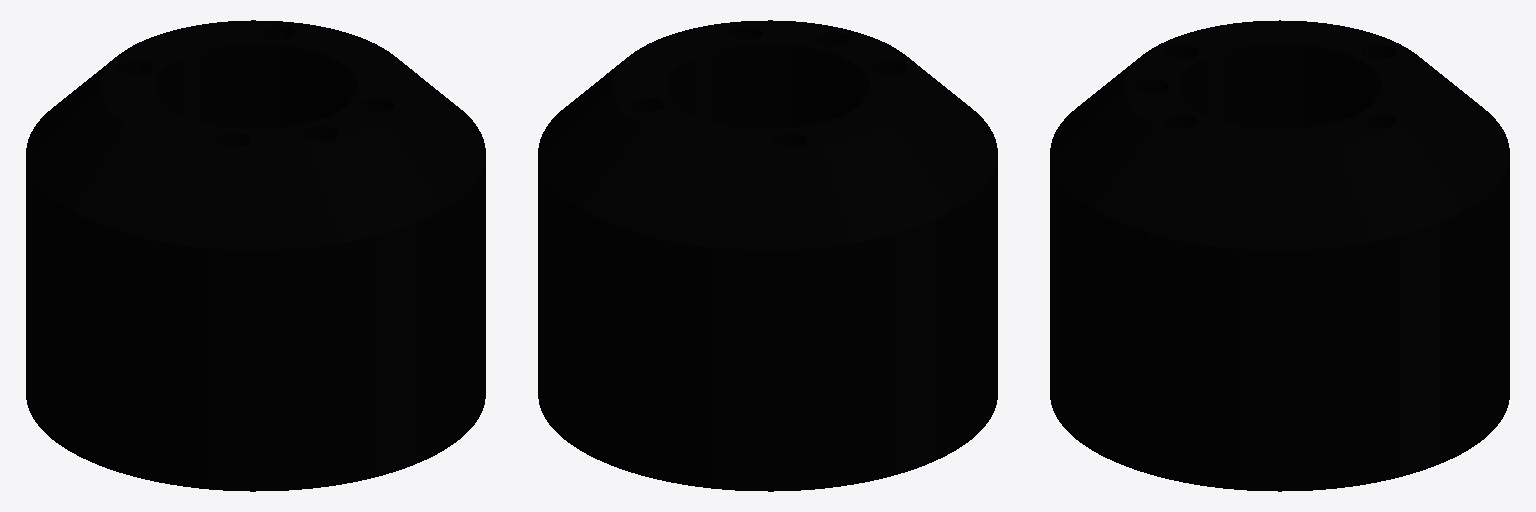
The robot description file, URDF, robot "hand_coupler":
<?xml version="1.0"?>
<!--
  hand_coupler.urdf
  Acoplador da prótese (peça que conecta a mão COVVI ao flange do robô).

  Mesh: meshes/PecasProtese.stl (unidade original: mm)
    X: ±37.545 mm  (⌀ ≈ 75 mm — disco de montagem)
    Y: ±37.545 mm
    Z:   0 … 55.46 mm  (altura do acoplador)

  Convenção de frames:
    • hand_coupler_link / origem: coincide com o flange do robô (Link6).
      O fundo do mesh (Z = 0) assenta na face do flange; o acoplador
      estende-se +55.46 mm ao longo de +Link6_z (eixo axial do pulso).
    • A mão COVVI monta no TOPO do acoplador (Z = +0.05546 m), substituindo
      o antigo acoplamento flush Link6→hand_base_link.

  Cadeia real (integração CR10 + COVVI):
    Link6 → hand_coupler_link (acoplador ⌀75×55.46 mm) → hand_base_link (COVVI)

  Uso standalone (Gazebo):
    spawn via spawn_entity.py; o bloco world/Link6 abaixo serve só de
    harness de teste e é substituído por Link6 do CR10 na integração.

  Integração nos launches (cr10_covvi_gazebo / conveyor_cell):
    O link e os joints são injetados programaticamente, com o caminho do
    mesh reescrito para file:// (Gazebo Classic não resolve package://
    ao spawnar a partir de arquivo).
-->
<robot name="hand_coupler">

  <!-- ══════════════════════════════════════════════════════════════════
       ROOT (modo standalone): liga o acoplador ao world para teste.
       Na integração com o CR10 este bloco é substituído por Link6.
  ══════════════════════════════════════════════════════════════════ -->
  <link name="world"/>

  <joint name="world_to_link6" type="fixed">
    <parent link="world"/>
    <child link="Link6"/>
    <origin xyz="0 0 0" rpy="0 0 0"/>
  </joint>

  <link name="Link6">
    <inertial>
      <mass value="0.001"/>
      <inertia ixx="1e-9" ixy="0.0" ixz="0.0"
               iyy="1e-9" iyz="0.0" izz="1e-9"/>
    </inertial>
  </link>

  <!-- ══════════════════════════════════════════════════════════════════
       ACOPLADOR DA PRÓTESE (entre Link6 e a mão COVVI)
       Disco ⌀75×55.46 mm; mesh já centrado em X/Y, Z de 0 a 55.46 mm.
  ══════════════════════════════════════════════════════════════════ -->
  <link name="hand_coupler_link">
    <inertial>
      <origin xyz="0 0 0.02773" rpy="0 0 0"/>
      <mass value="0.150"/>
      <!-- cilindro R=0.0375 H=0.05546: Ixx=Iyy=(1/12)m(3R²+H²); Izz=(1/2)mR² -->
      <inertia ixx="9.12e-5" ixy="0.0" ixz="0.0"
               iyy="9.12e-5" iyz="0.0"
               izz="1.055e-4"/>
    </inertial>
    <visual>
      <origin xyz="0 0 0" rpy="0 0 0"/>
      <geometry>
        <mesh filename="package://touch_pack/meshes/PecasProtese.stl"
              scale="0.001 0.001 0.001"/>
      </geometry>
      <material name="coupler_black">
        <color rgba="0.03 0.03 0.03 1.0"/>
      </material>
    </visual>
    <collision name="col_hand_coupler">
      <origin xyz="0 0 0.02773" rpy="0 0 0"/>
      <geometry>
        <cylinder radius="0.0375" length="0.05546"/>
      </geometry>
    </collision>
  </link>

  <!-- Acoplador no flange (fundo do mesh assenta em Link6). -->
  <joint name="coupler_attach" type="fixed">
    <parent link="Link6"/>
    <child link="hand_coupler_link"/>
    <origin xyz="0 0 0" rpy="0 0 0"/>
  </joint>

  <!-- ══════════════════════════════════════════════════════════════════
       PROPRIEDADES GAZEBO
  ══════════════════════════════════════════════════════════════════ -->
  <gazebo reference="Link6">
    <self_collide>false</self_collide>
  </gazebo>

  <gazebo reference="hand_coupler_link">
    <self_collide>false</self_collide>
    <gravity>true</gravity>
    <mu1>0.40</mu1>
    <mu2>0.40</mu2>
    <kp>1.0e5</kp>
    <kd>100.0</kd>
    <maxContacts>4</maxContacts>
    <minDepth>0.0002</minDepth>
    <maxVel>0.05</maxVel>
    <visual>
      <material>
        <ambient>0.02 0.02 0.02 1</ambient>
        <diffuse>0.03 0.03 0.03 1</diffuse>
        <specular>0.10 0.10 0.10 1</specular>
      </material>
    </visual>
  </gazebo>

</robot>

--- Render facts (derived) ---
3 views of the same robot in one strip: view 1: azimuth 30°, elevation 25°; view 2: azimuth 150°, elevation 25°; view 3: azimuth 270°, elevation 25° (orthographic).
Robot: hand_coupler — 3 links, 2 joints (2 fixed); root link world; default pose: all joints at 0.
Visible links, largest first — view 1: hand_coupler_link; view 2: hand_coupler_link; view 3: hand_coupler_link.
Boxes of the visible links, x1=… form: hand_coupler_link: x1=26, y1=20, x2=485, y2=491; hand_coupler_link: x1=538, y1=20, x2=997, y2=491; hand_coupler_link: x1=1050, y1=20, x2=1509, y2=491.
Size in the robot's own frame: 0.0751 by 0.0751 by 0.0555 metres.
Meshes: 1 distinct files referenced, 1 mesh visuals loaded (1 binary STL).
